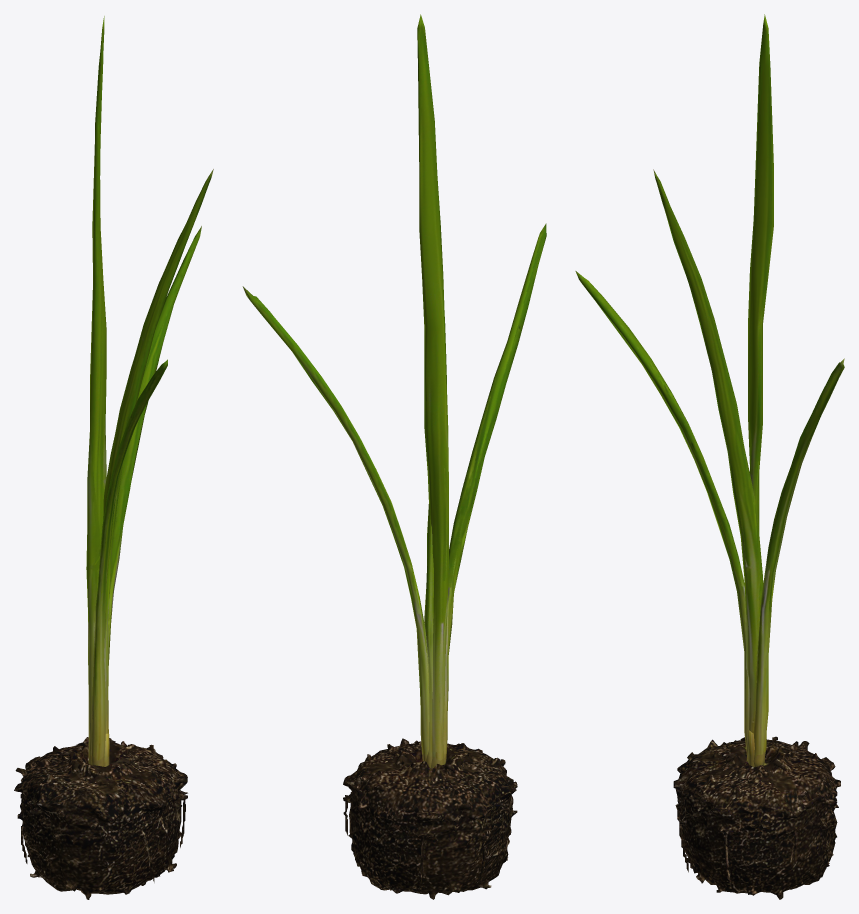
Rendered from suito01.glb.
The picture shows the model from 3 angles, left to right: view 1: azimuth 30°, elevation 25°; view 2: azimuth 150°, elevation 25°; view 3: azimuth 270°, elevation 25°; orthographic projection.
Visible parts, largest first — view 1: tripo_node_6544ff7a-127e-411c-9006-7805438c0225; view 2: tripo_node_6544ff7a-127e-411c-9006-7805438c0225; view 3: tripo_node_6544ff7a-127e-411c-9006-7805438c0225.
Part boxes in pixels (<box>): tripo_node_6544ff7a-127e-411c-9006-7805438c0225: <box>14,16,213,899</box>; tripo_node_6544ff7a-127e-411c-9006-7805438c0225: <box>242,14,546,899</box>; tripo_node_6544ff7a-127e-411c-9006-7805438c0225: <box>575,14,844,899</box>.
Size of the model in its own units: 0.067 by 0.25 by 0.0709.
1 material, 1 textured.
